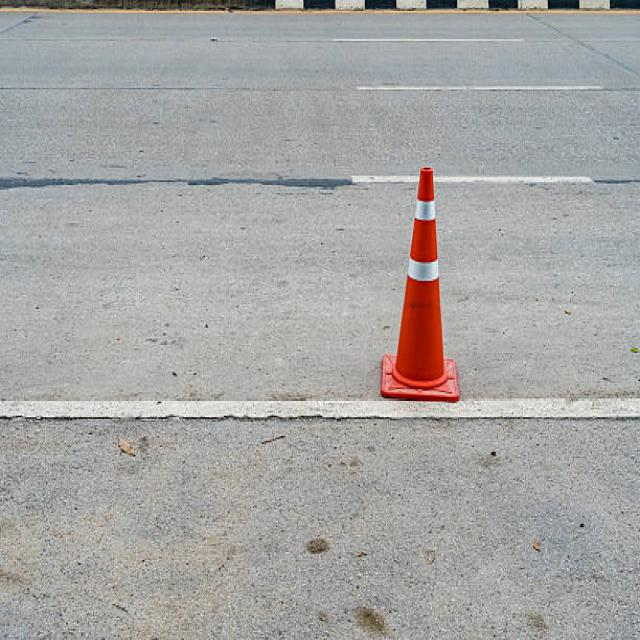Traffic Cone: (373, 141, 472, 417)
